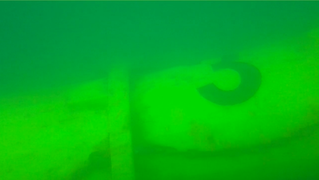3: (186, 51, 262, 106)
pipe: (1, 26, 318, 180)
